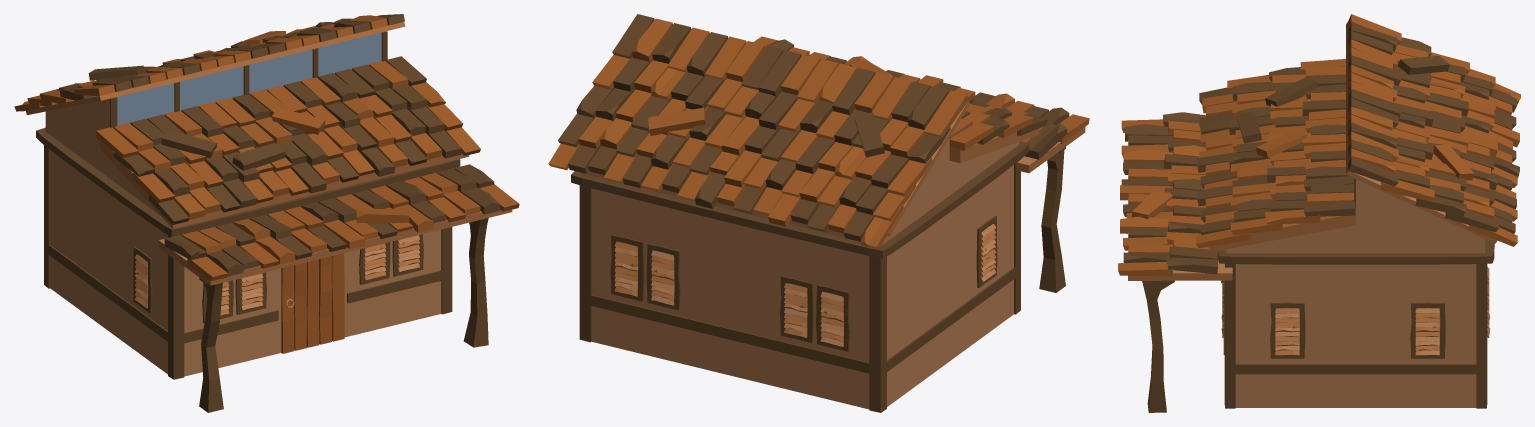
Rendered from beach_house.glb.
3 renders of one model, left to right at view 1: azimuth 30°, elevation 25°; view 2: azimuth 150°, elevation 25°; view 3: azimuth 270°, elevation 25°, orthographic. The views are drawn at different scales.
Visible parts, largest first — view 1: M_House; view 2: M_House; view 3: M_House.
Boxes of the visible parts, <box> form: M_House: <box>14,14,519,412</box>; M_House: <box>548,14,1089,412</box>; M_House: <box>1118,14,1520,412</box>.
Size of the model in its own units: 7.81 by 6.2 by 8.83.
1 material, 1 textured.
